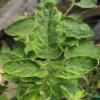Tomato leaf yellow virus: (31, 6, 64, 61), (51, 55, 99, 82), (53, 15, 96, 39), (4, 59, 48, 81), (4, 16, 37, 41)
